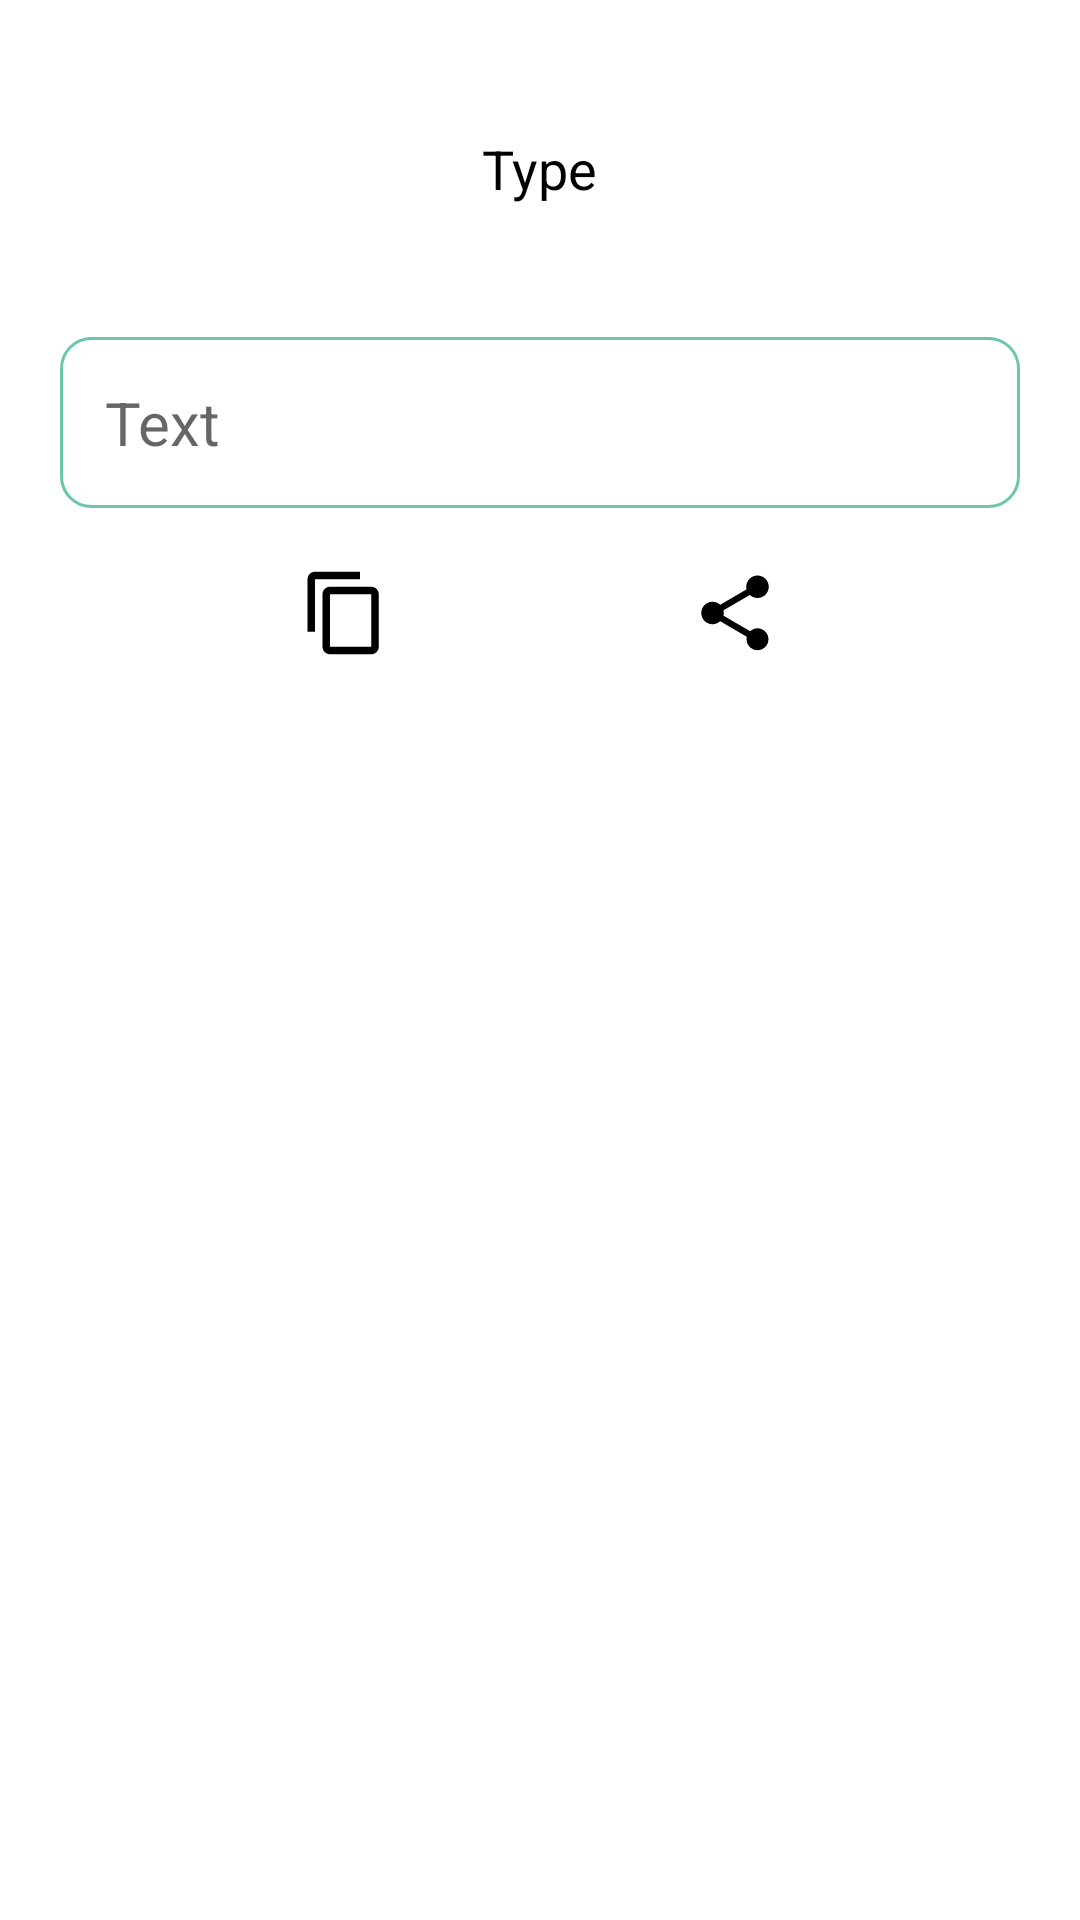

Icons on this 1080×1920 Android screen, each with the point to tap as (x,y):
share: (735,613)
